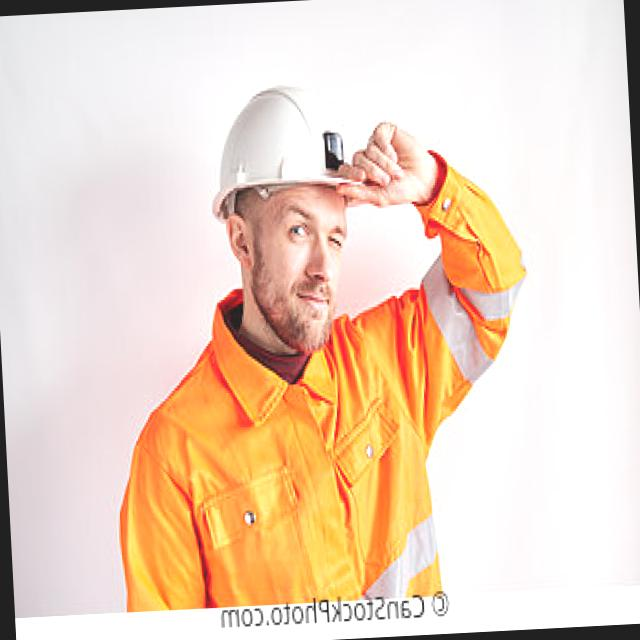helmet: (175, 82, 382, 198)
no-goggles: (236, 204, 370, 268)
vest: (108, 313, 431, 611)
